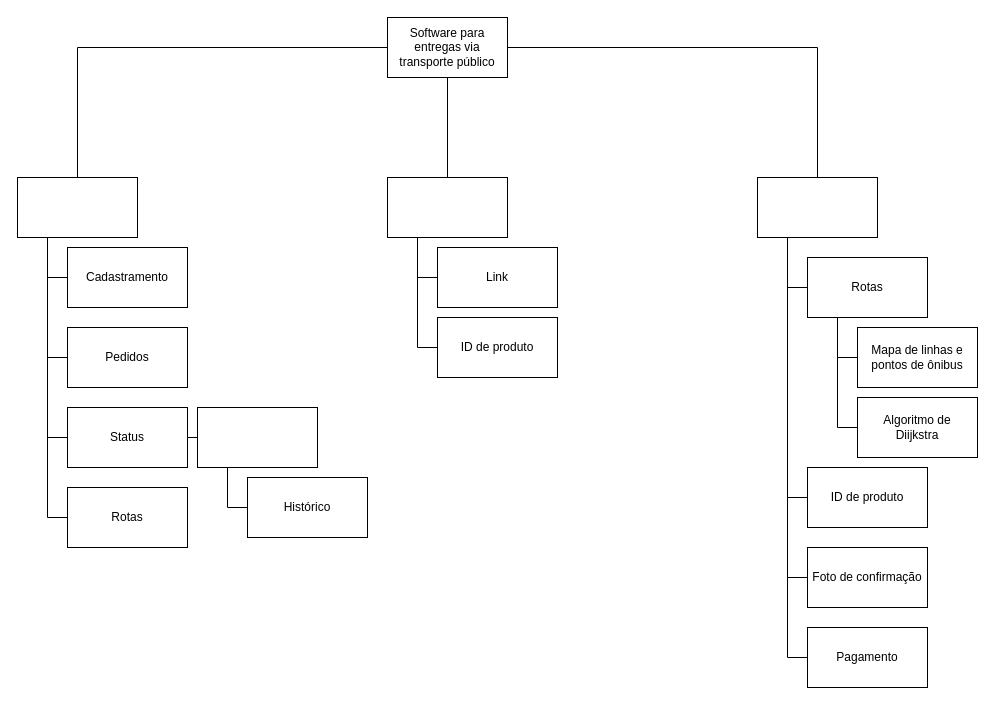
The diagram is 995 pixels wide and 705 high, and some of its shapes have lost their labels. The shapes that lost their labels are listed below. From the top down, each one's box as (x1, y1, x2, y2) in pixels, then its label:
(16, 176, 138, 238): Usuários
(386, 176, 508, 238): Armário
(756, 176, 878, 238): Entrega
(196, 406, 318, 468): Entregador
